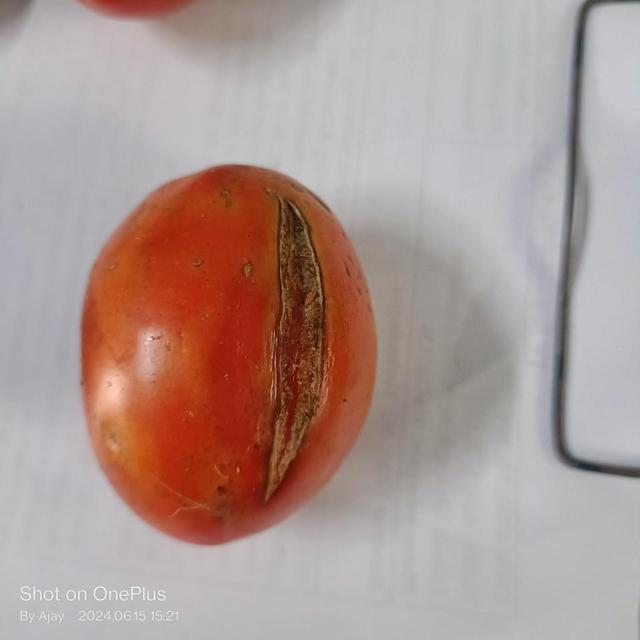Cracking Fruit: (83, 114, 259, 456)
